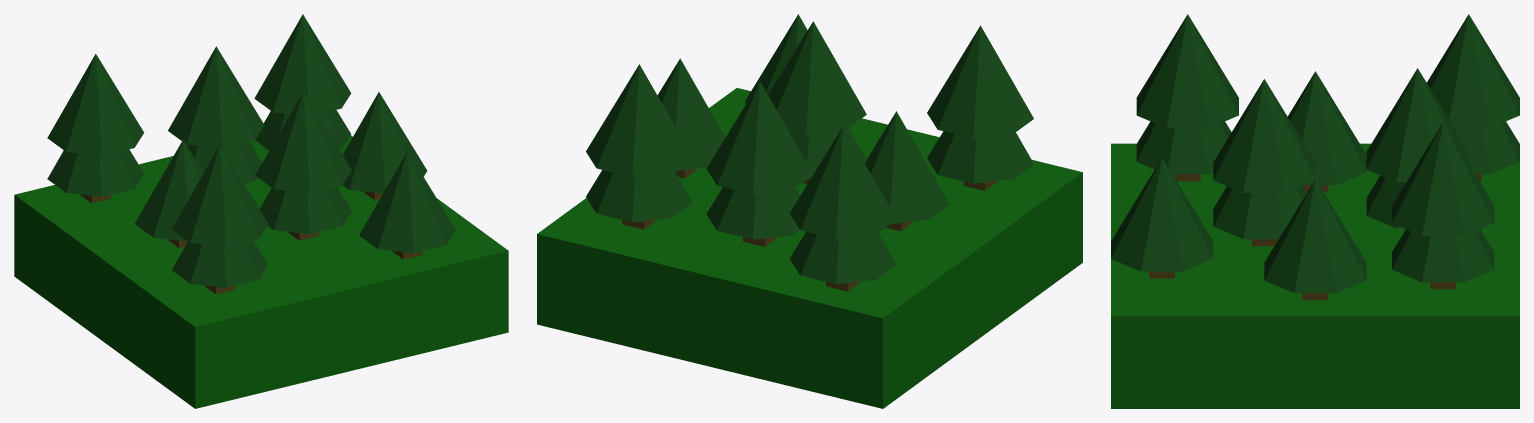
Rendered from forest.obj.
The picture shows the model from 3 angles, left to right: view 1: azimuth 30°, elevation 25°; view 2: azimuth 150°, elevation 25°; view 3: azimuth 270°, elevation 25°; orthographic projection. The views are drawn at different scales.
Parts seen in each view (by area): view 1: grass, cone, cylinder; view 2: grass, cone, cylinder; view 3: cone, grass, cylinder.
Part boxes in pixels (x1,y1,x2,y2): grass: (14, 135, 508, 408); cone: (47, 14, 455, 287); cylinder: (80, 191, 422, 294); grass: (537, 88, 1082, 408); cone: (586, 14, 1033, 284); cylinder: (622, 169, 997, 291); cone: (1111, 14, 1519, 293); grass: (1111, 143, 1519, 408); cylinder: (1149, 174, 1481, 300).
Bounding box in the file's own units: 0.25 × 0.1719 × 0.25.
Materials: 1 (1 with a texture image).
